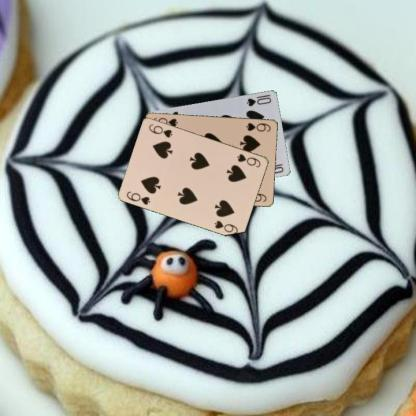10s: (244, 92, 273, 107)
6s: (124, 188, 152, 206), (235, 151, 262, 169), (244, 120, 272, 132)
